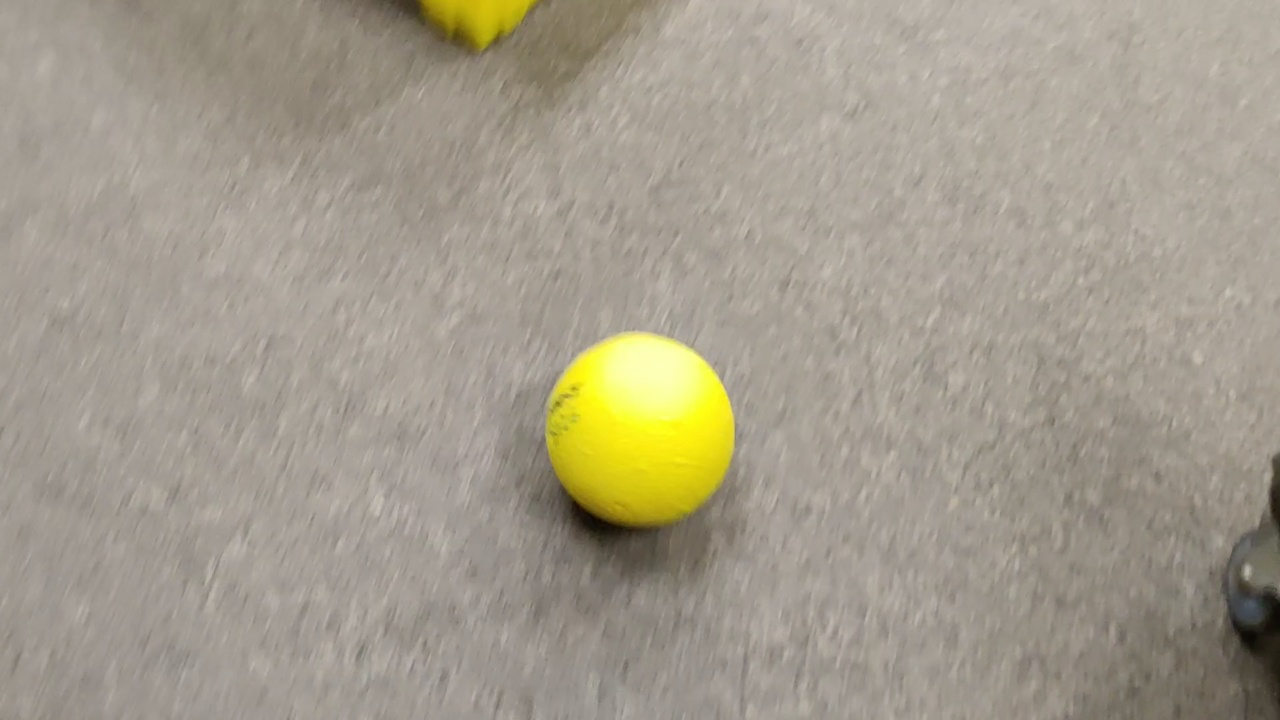Ball: (544, 337, 734, 524)
